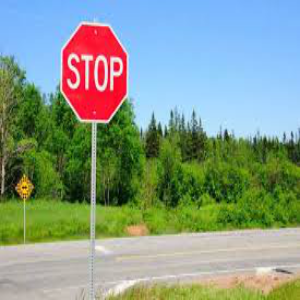STOP_SIGN: (59, 21, 129, 123)
